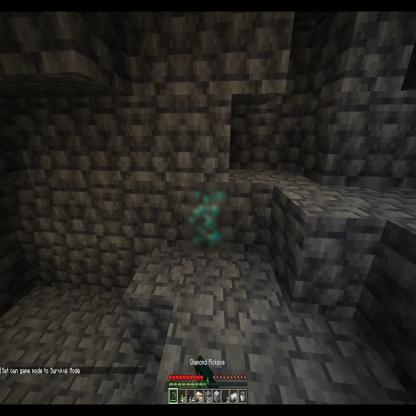diamond ore: (184, 182, 231, 253)
